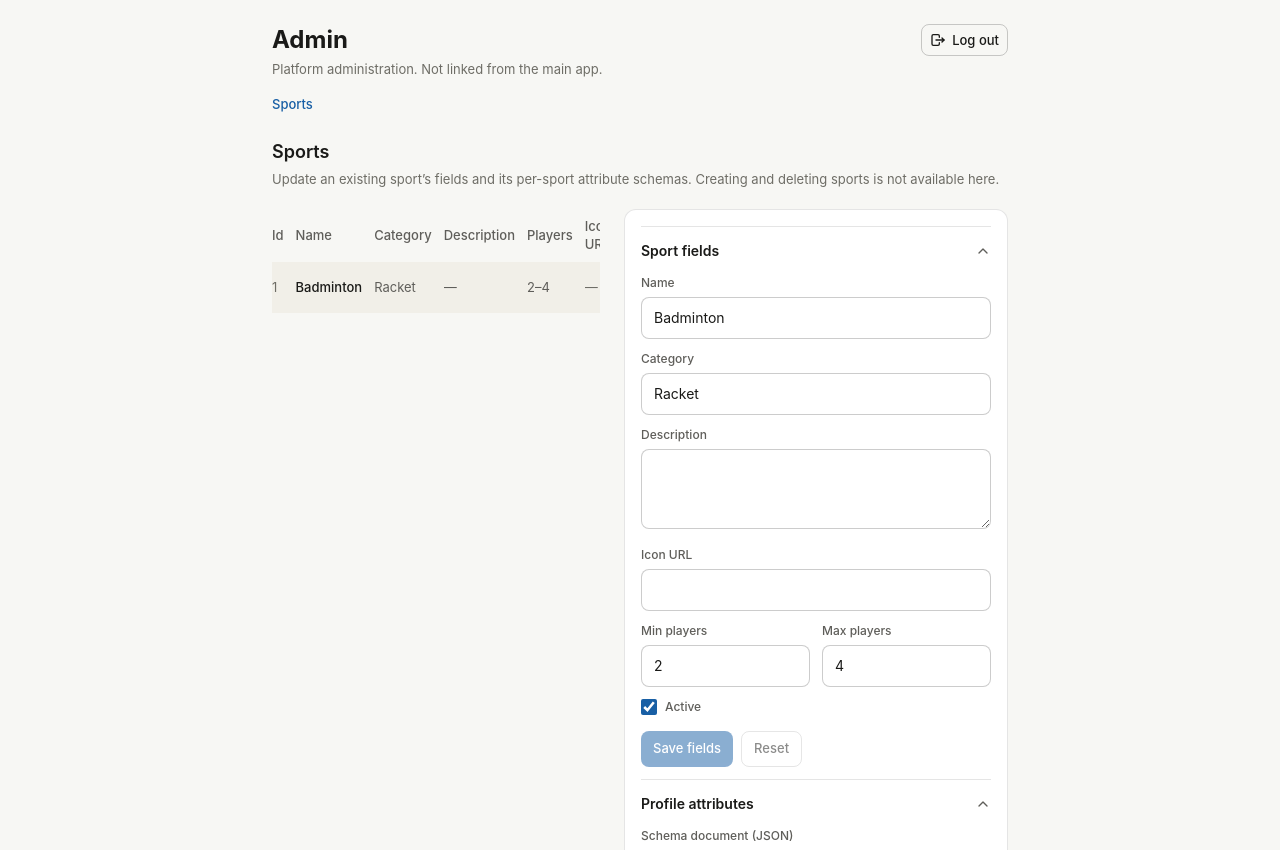
logout from /admin (ADMIN-4) › cancels without logging out, leaving the edits in place
Replace the text in the field labelled "Name" with "Badminton Doubles" at (816, 318), box top-left (641, 296), bottom-right (991, 338)
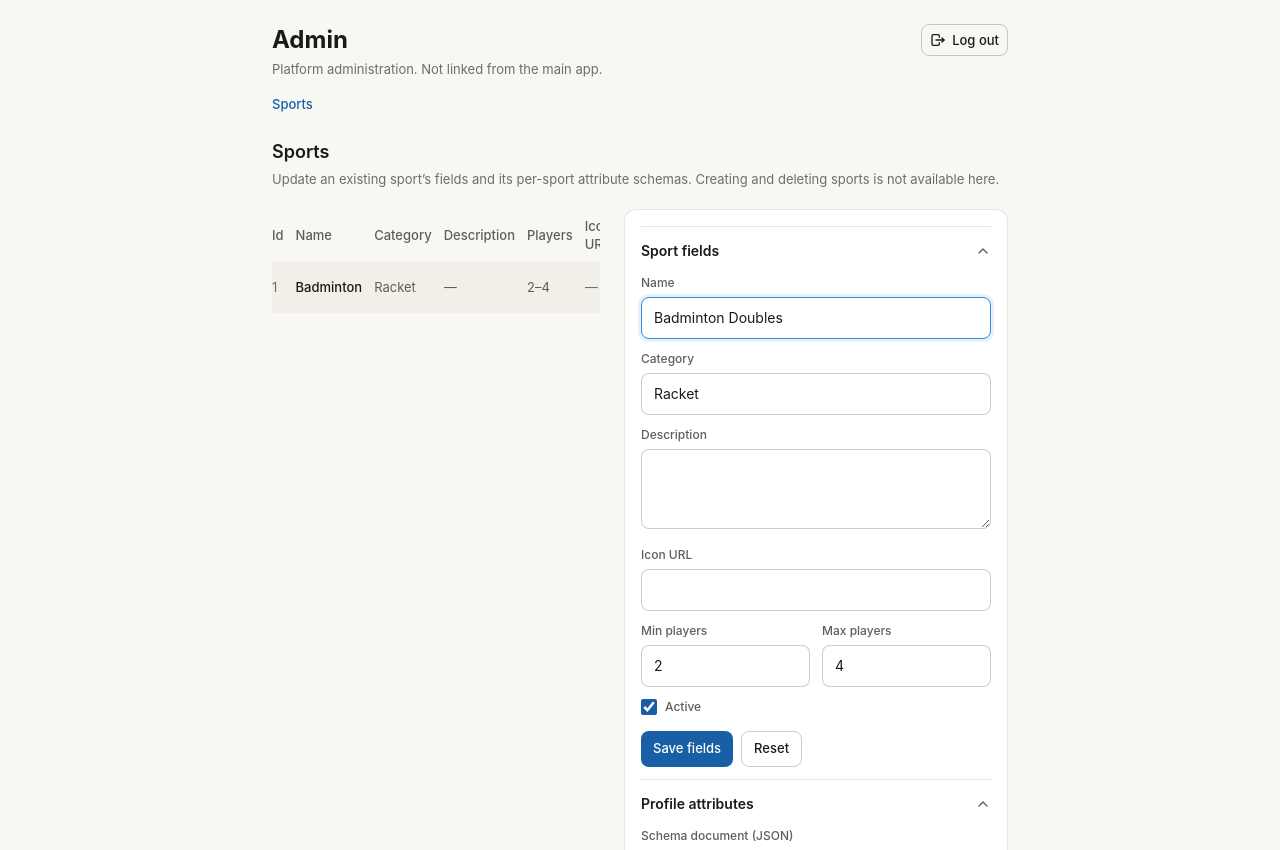
Click the button "Log out" at (965, 40), box top-left (921, 24), bottom-right (1008, 56)
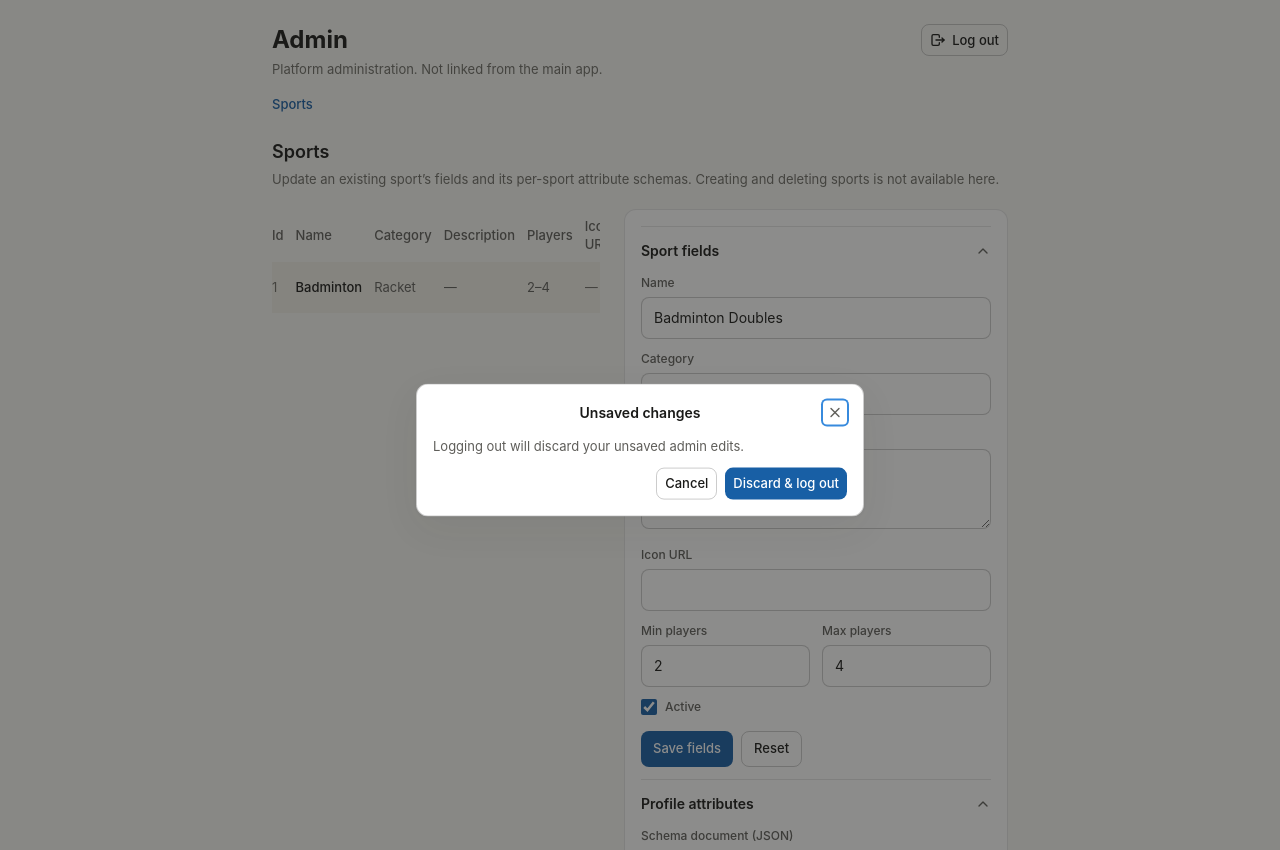
Expected: the heading "Unsaved changes" is shown, top-left (580, 403), bottom-right (700, 423)
Click the button "Cancel" at (687, 483), box top-left (656, 467), bottom-right (717, 499)
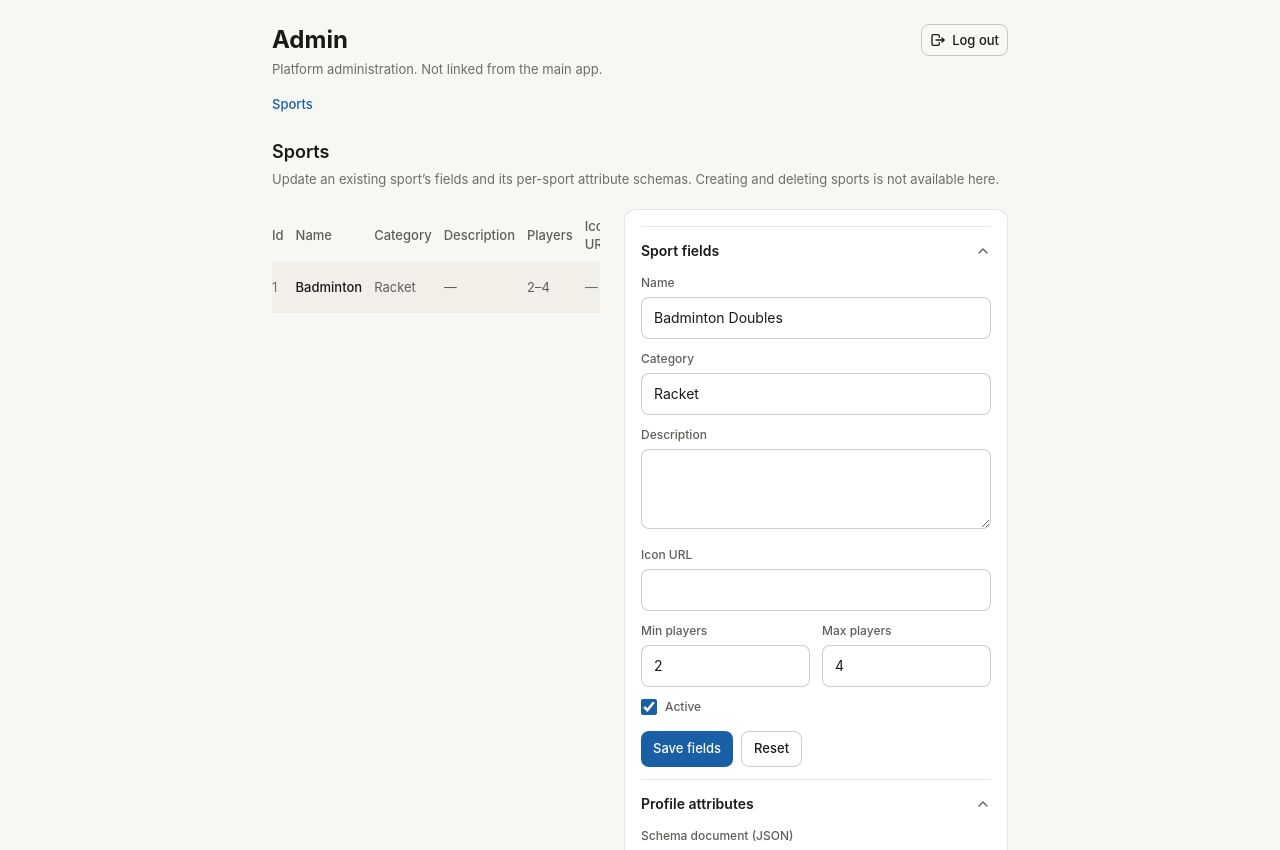
Expected: the heading "Unsaved changes" is gone
